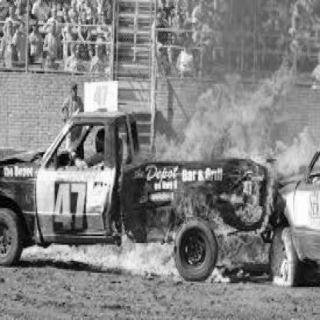Fire: (17, 43, 317, 283)
